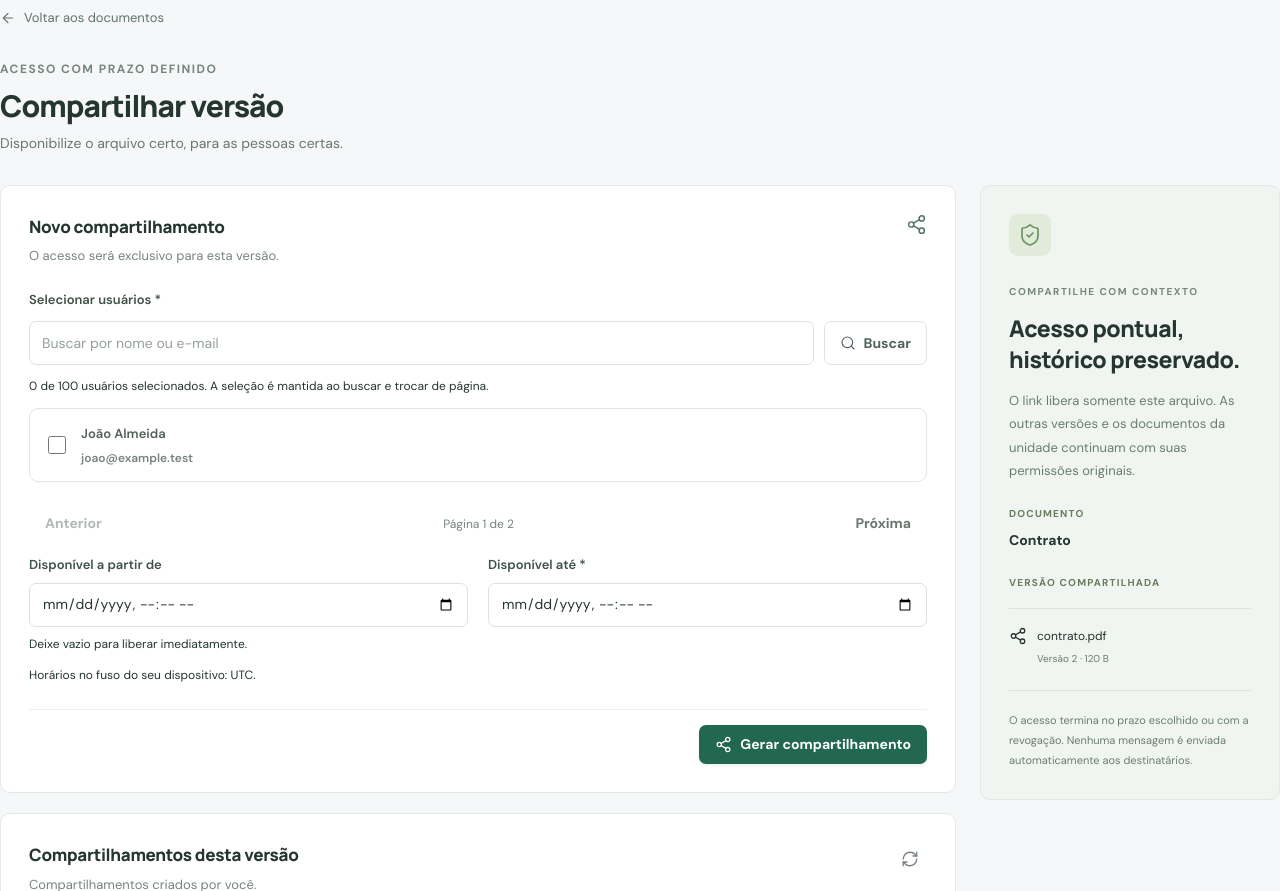
Test: compartilhamento por versão › envia destinatários e datas com fuso explícito e gera link para a interface
The width and height of the screenshot is (1280, 891).
Click the checkbox labelled "João Almeida joao@example.test".
click(57, 446)  # box [48,436,66,454]
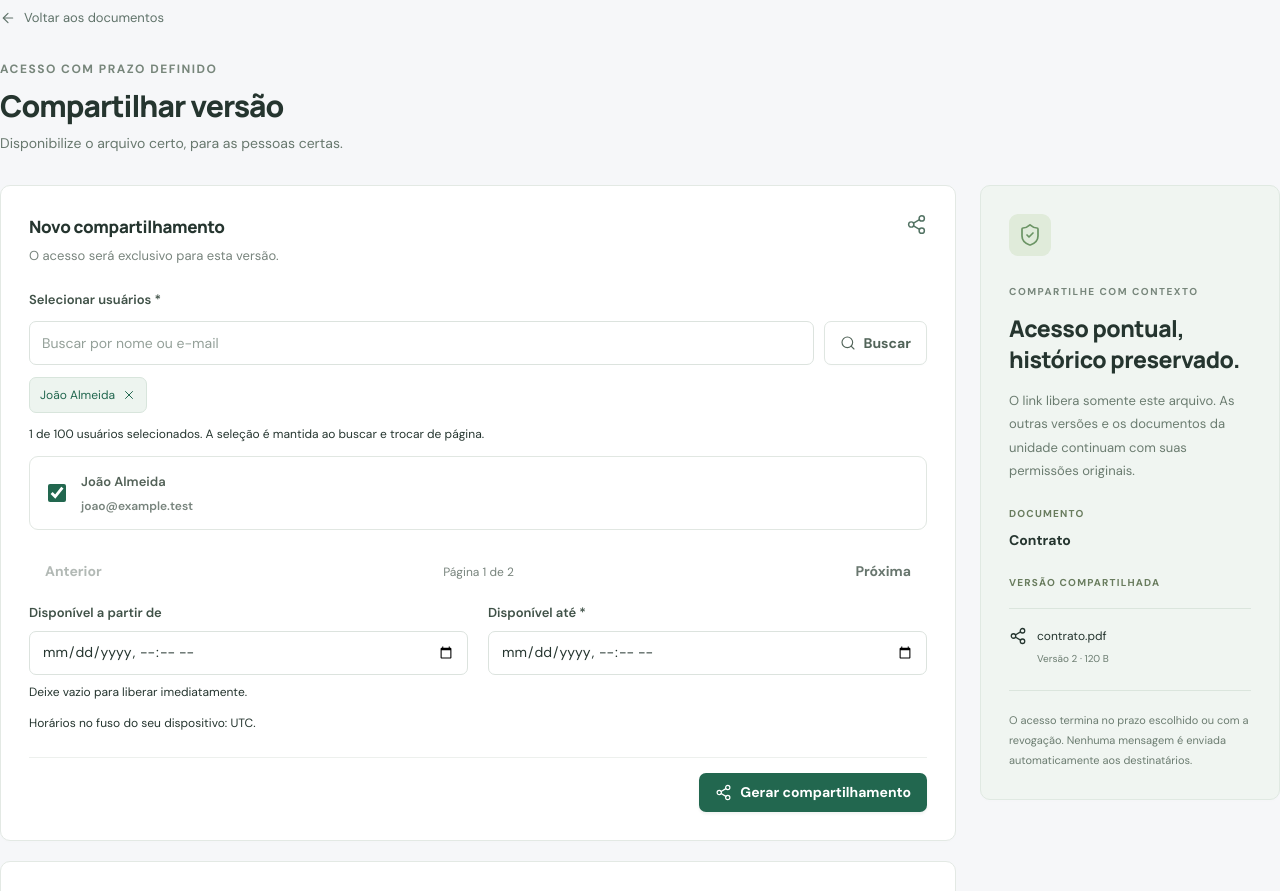
Type "2099-01-01T12:00" into the field with id "share-expiry".
click(708, 653); type("2099-01-01T12:00")  # box [488,631,927,675]
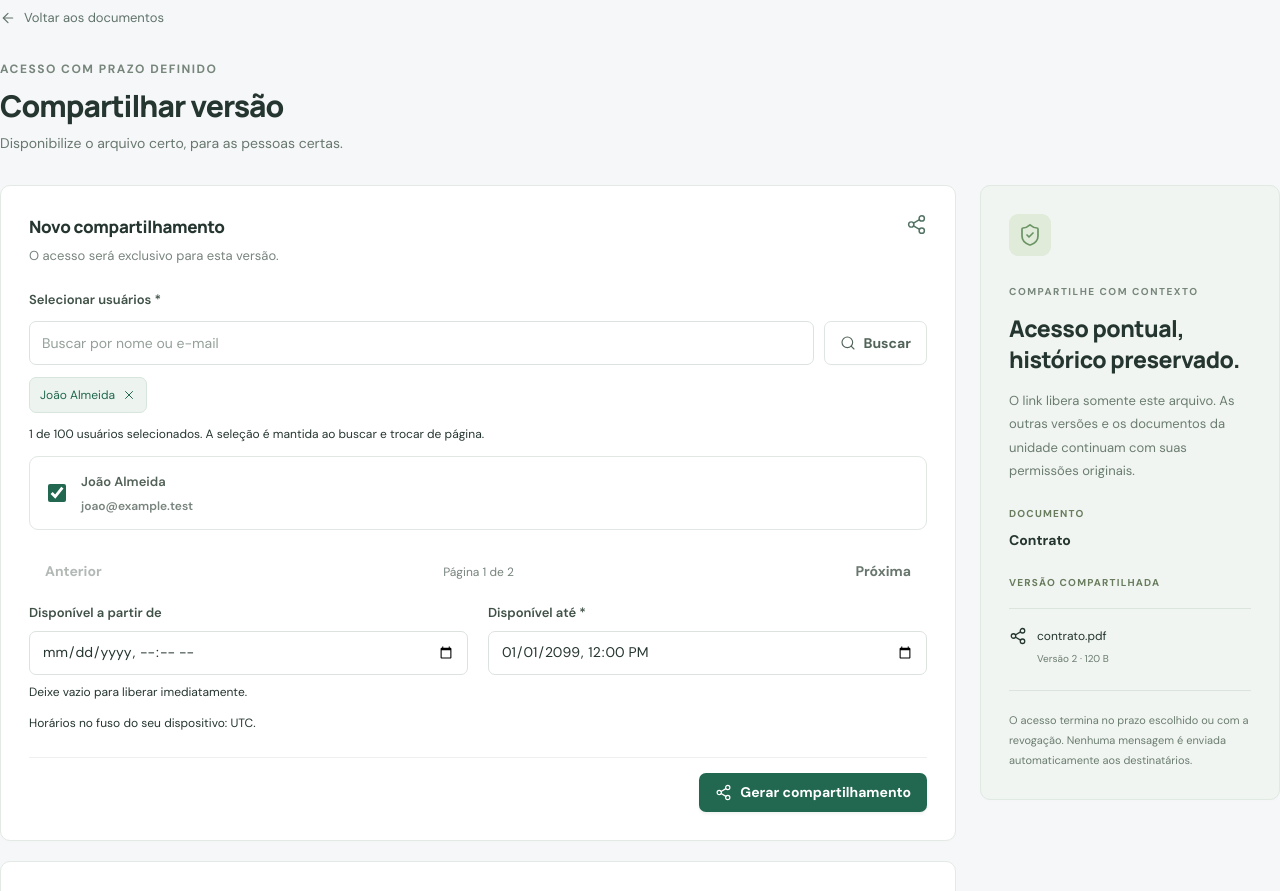
Type "2098-01-01T12:00" into the field with id "share-start".
click(248, 653); type("2098-01-01T12:00")  # box [29,631,468,675]
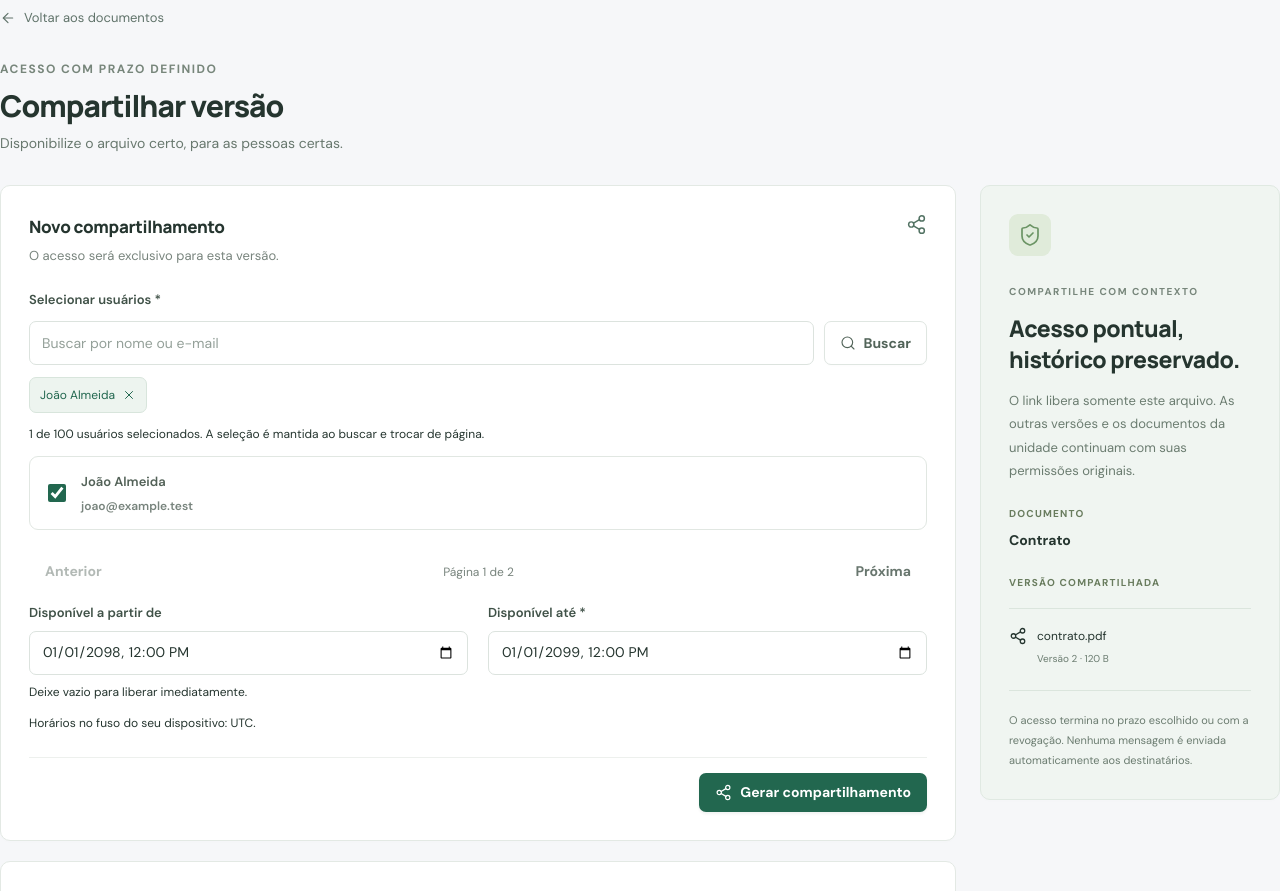
Submit the form, box [0,185,956,841]
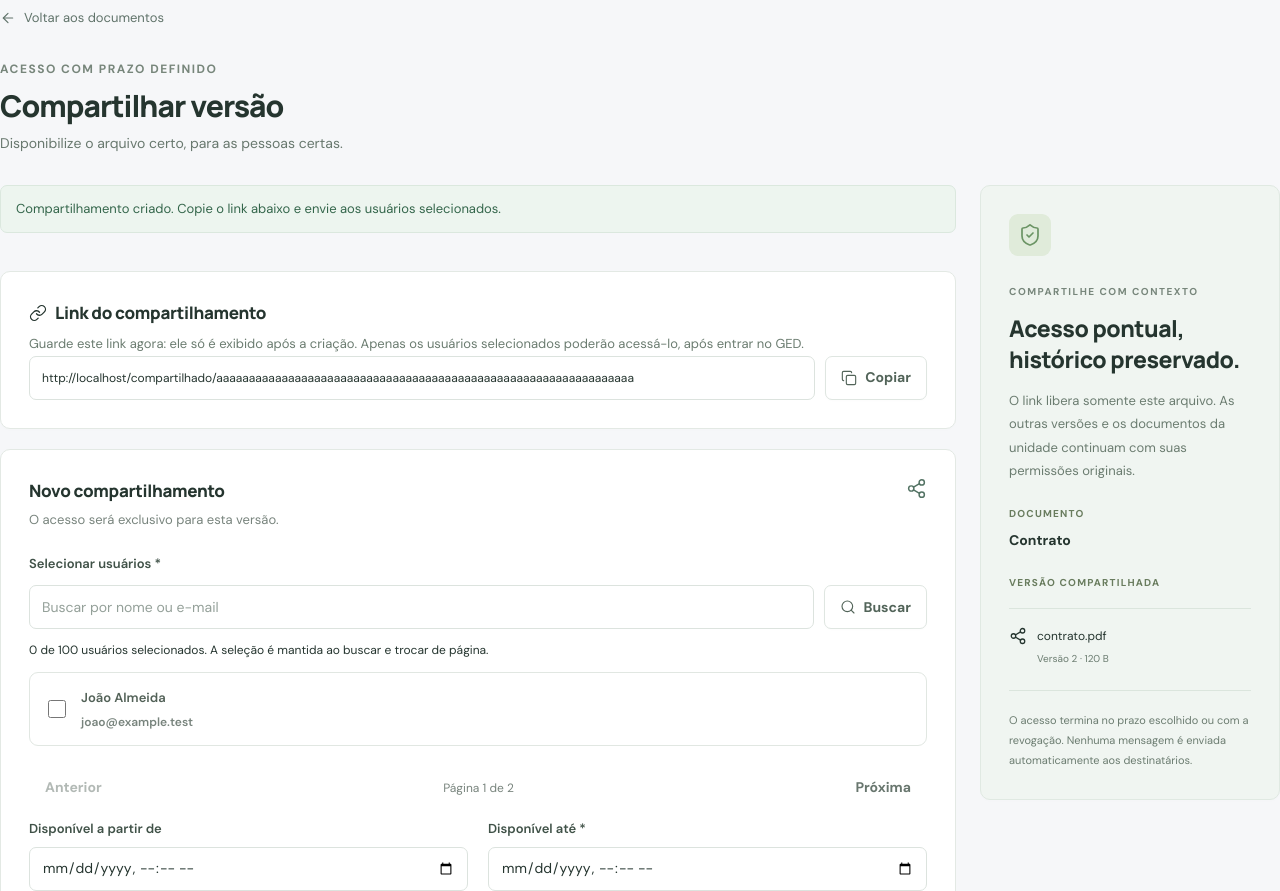
Expected: the text "Compartilhamento criado" is shown, [16,200,501,217]
